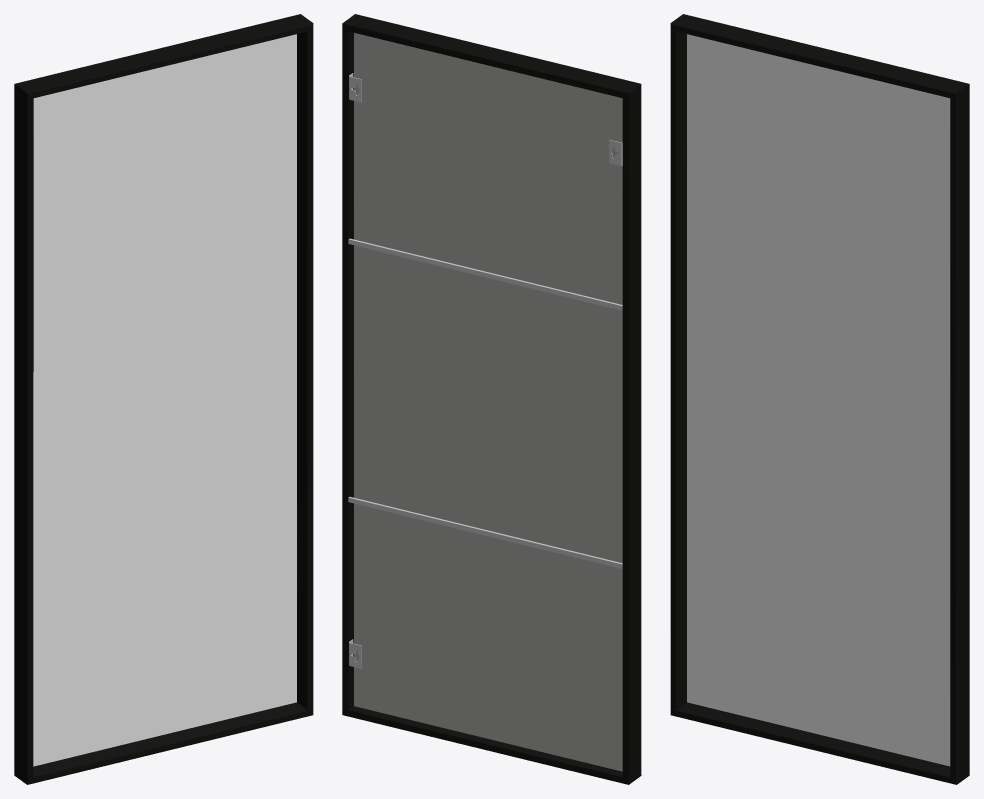
Rendered from nissedal_lustro_70320319.glb.
The picture shows the model from 3 angles, left to right: view 1: azimuth 30°, elevation 25°; view 2: azimuth 150°, elevation 25°; view 3: azimuth 330°, elevation 25°; orthographic projection.
Parts seen in each view (by area): view 1: nissedal_lustro_70320319; view 2: nissedal_lustro_70320319; view 3: nissedal_lustro_70320319.
Boxes of the visible parts, bbox=[...] form: nissedal_lustro_70320319: bbox=[14, 14, 313, 784]; nissedal_lustro_70320319: bbox=[342, 14, 641, 784]; nissedal_lustro_70320319: bbox=[670, 14, 969, 784].
Bounding box in the file's own units: 0.6501 × 1.5 × 0.0532.
1 material, 1 textured.
